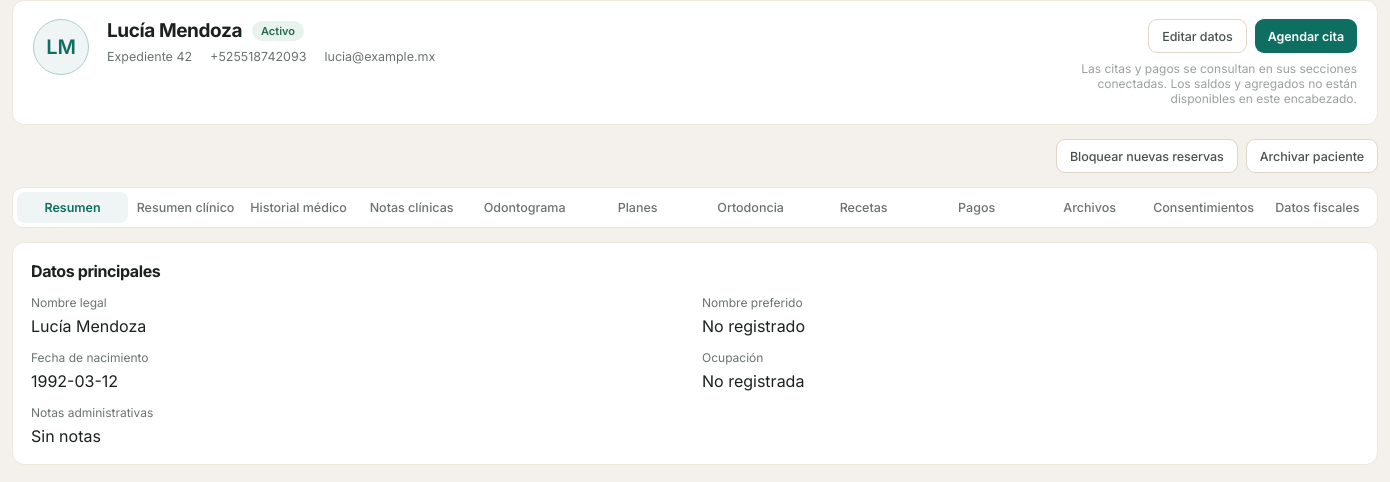
it: PatientRecordPage › uses the fetched patient header and marks unwired mock tabs unavailable
Expected: the heading "Lucía Mendoza" is shown, x1=107 y1=19 x2=242 y2=42
Expected: the button "Agendar cita" is enabled, x1=1255 y1=19 x2=1357 y2=53
Click the tab "Notas clínicas": (412, 208) x1=356 y1=192 x2=467 y2=223
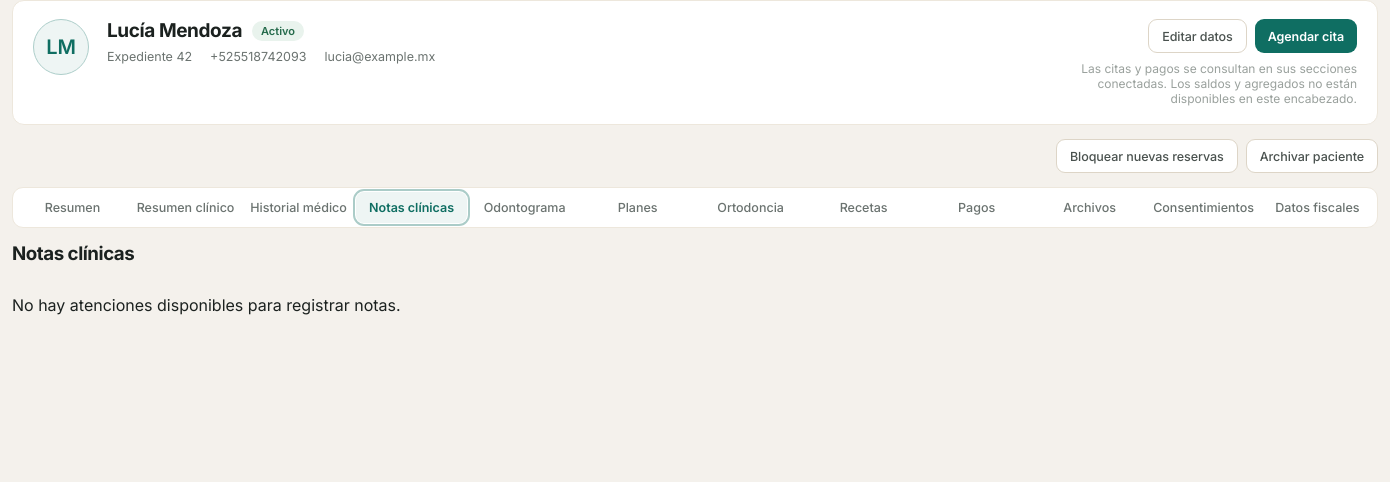
Expected: the text "No hay atenciones disponibles para registrar notas." is shown, x1=12 y1=295 x2=401 y2=315
